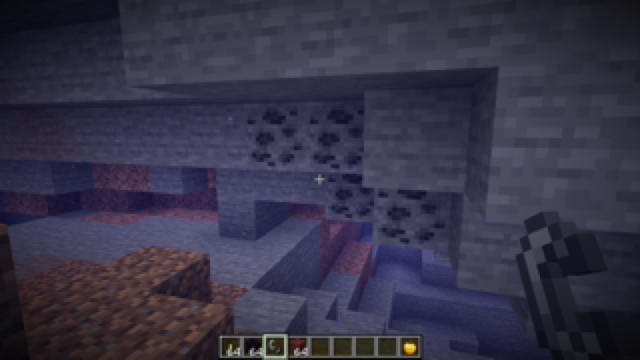coal: (243, 99, 461, 253)
